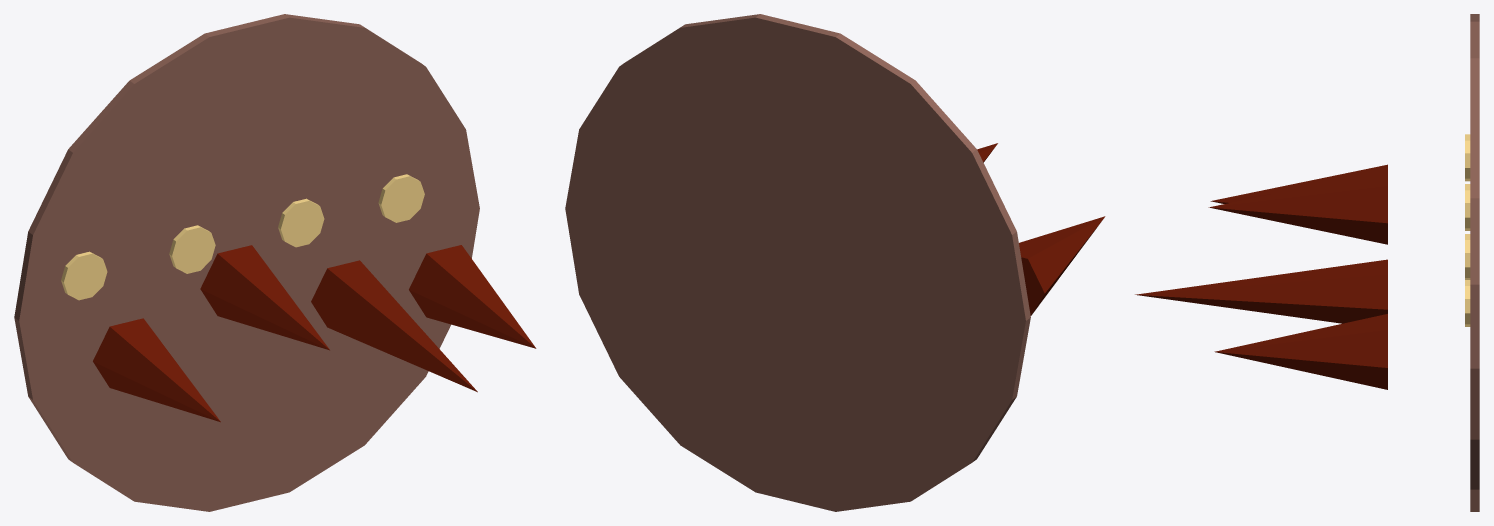
The model's file is 02_local_prop_cluster.glb.
The picture shows the model from 3 angles, left to right: view 1: azimuth 30°, elevation 25°; view 2: azimuth 150°, elevation 25°; view 3: azimuth 270°, elevation 25°; orthographic projection. The views are drawn at different scales.
Parts seen in each view (by area): view 1: scatter_base, basalt_shard_2, basalt_shard_3, basalt_shard_1, basalt_shard_0, lava_glow_1, lava_glow_2, lava_glow_3, lava_glow_0; view 2: scatter_base, basalt_shard_0; view 3: basalt_shard_2, basalt_shard_1, basalt_shard_3, scatter_base, basalt_shard_0.
Boxes of the visible parts, left/top/right/bottom form: scatter_base: left=14, top=14, right=479, bottom=511; basalt_shard_2: left=311, top=260, right=477, bottom=392; basalt_shard_3: left=409, top=245, right=536, bottom=348; basalt_shard_1: left=200, top=245, right=329, bottom=350; basalt_shard_0: left=93, top=318, right=220, bottom=422; lava_glow_1: left=169, top=225, right=215, bottom=273; lava_glow_2: left=278, top=198, right=324, bottom=247; lava_glow_3: left=378, top=174, right=424, bottom=222; lava_glow_0: left=61, top=251, right=107, bottom=300; scatter_base: left=565, top=14, right=1030, bottom=511; basalt_shard_0: left=1019, top=216, right=1105, bottom=315; basalt_shard_2: left=1135, top=259, right=1387, bottom=323; basalt_shard_1: left=1208, top=170, right=1387, bottom=244; basalt_shard_3: left=1214, top=314, right=1387, bottom=389; scatter_base: left=1470, top=14, right=1479, bottom=511; basalt_shard_0: left=1210, top=164, right=1387, bottom=203.
Bounding box in the file's own units: 1.9 × 1.87 × 1.31.
